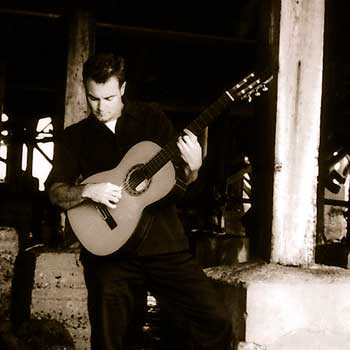guitar: (63, 68, 275, 259)
